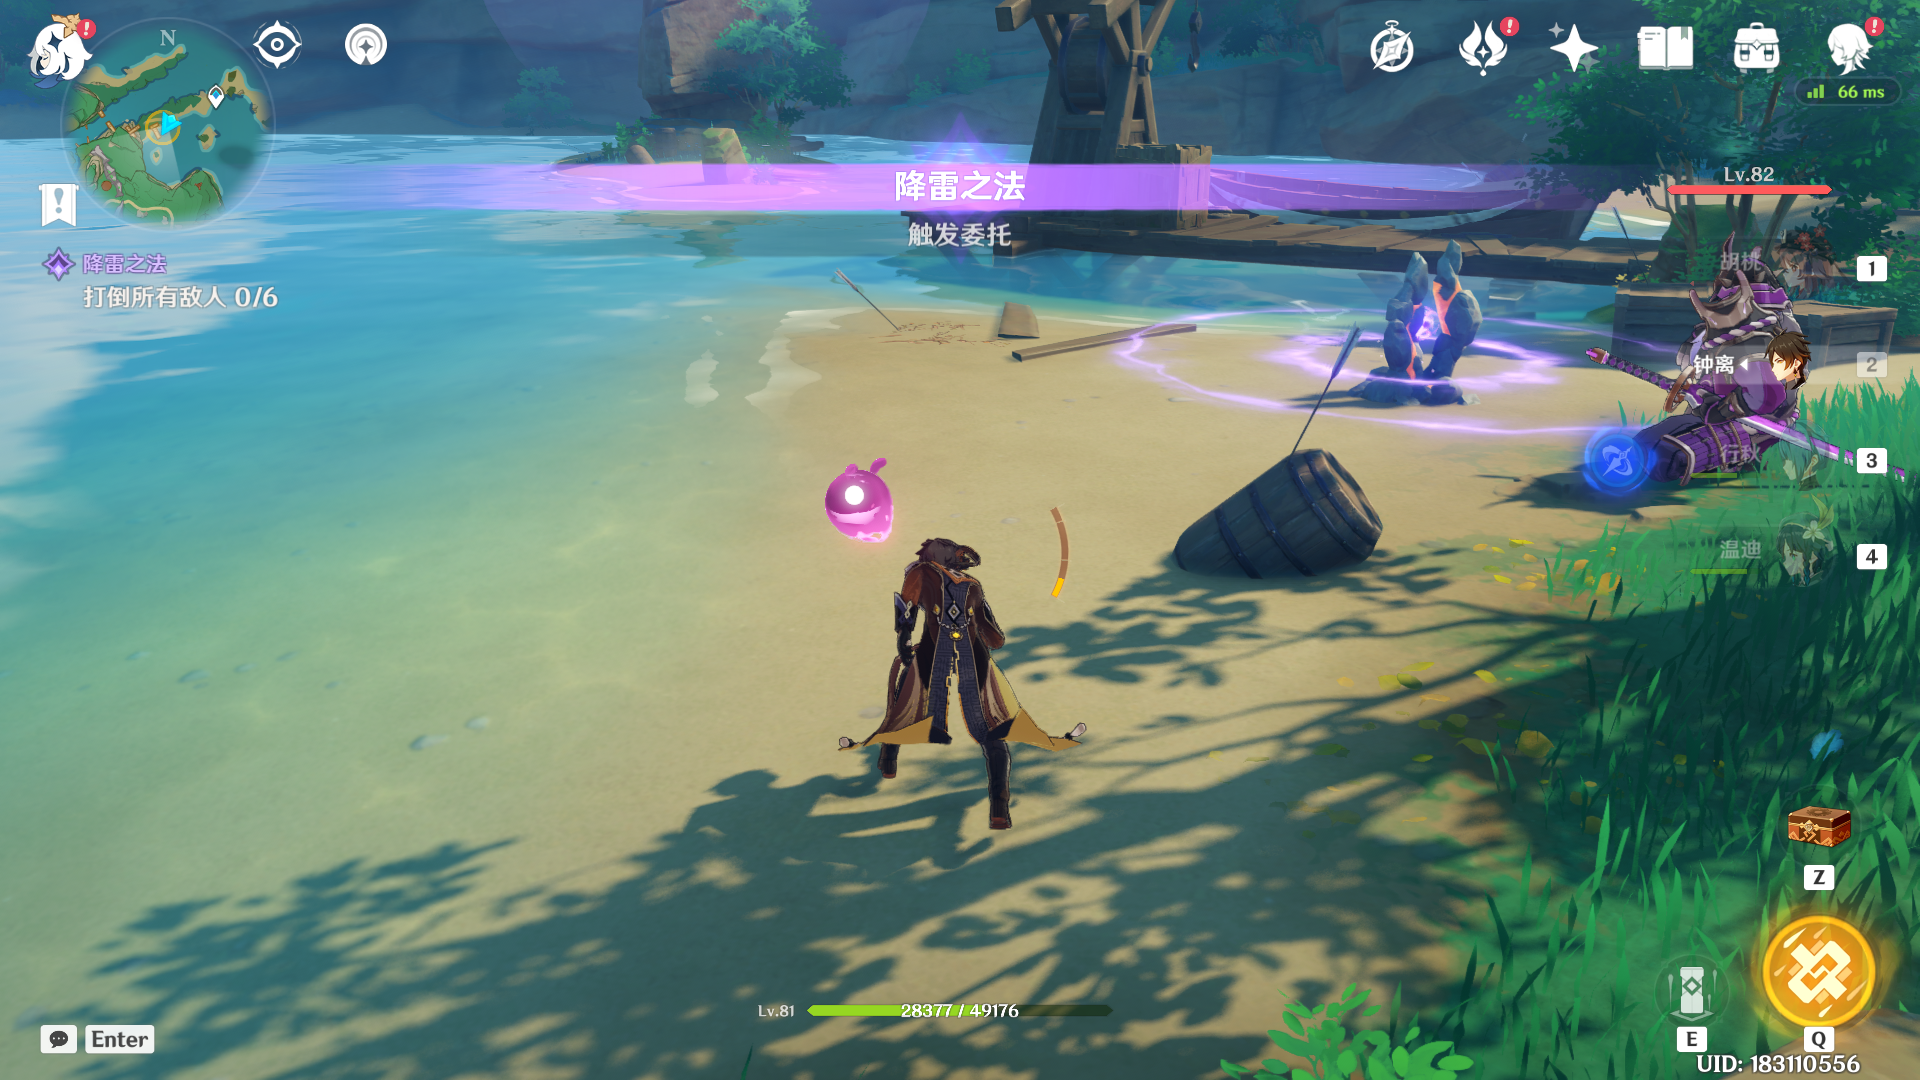character: (840, 480, 1087, 877)
samurai: (1578, 229, 1886, 538)
